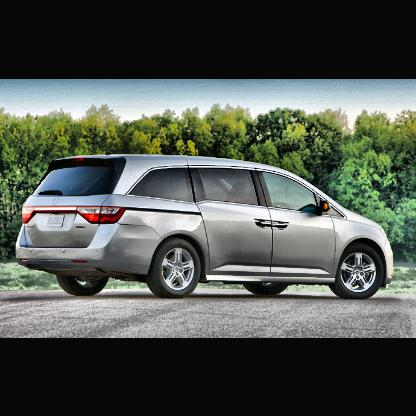Honda Odyssey Minivan 2012: (13, 152, 396, 302)
